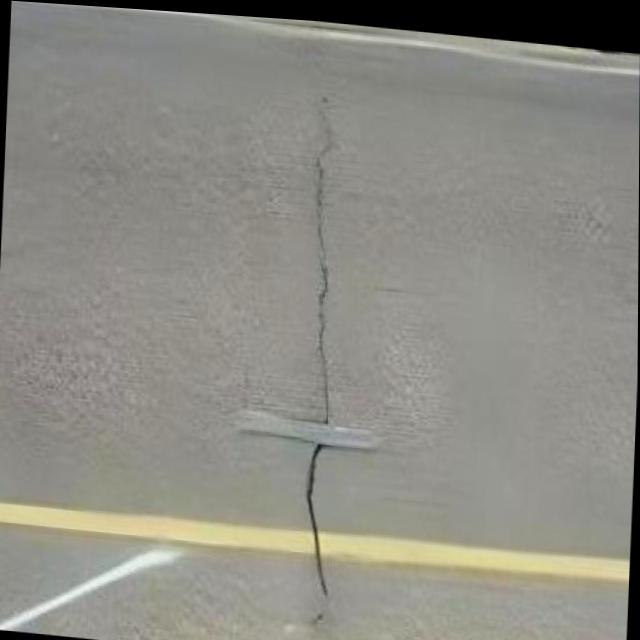Crack: (286, 140, 358, 625)
